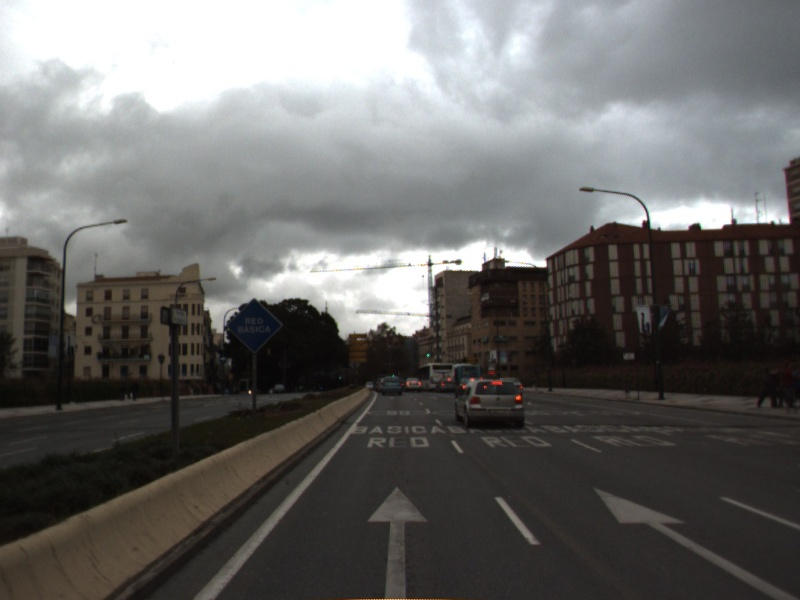STRAIGHT: (589, 484, 800, 600), (364, 482, 434, 600)
